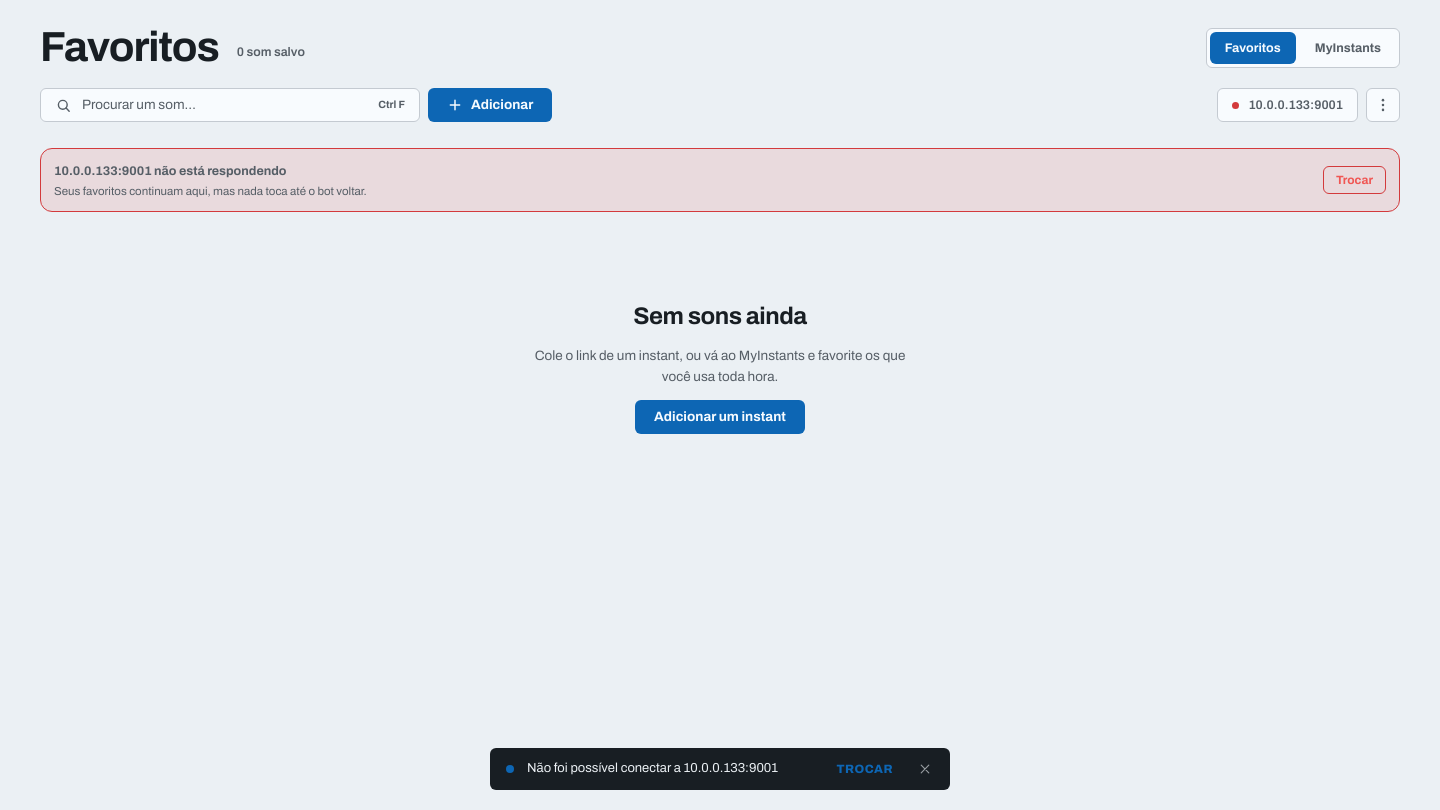
Test: connection health › opens the picker from the toast action
The image size is (1440, 810).
Click the 2nd button "Trocar" at x=865, y=769, box [830,759,899,779]
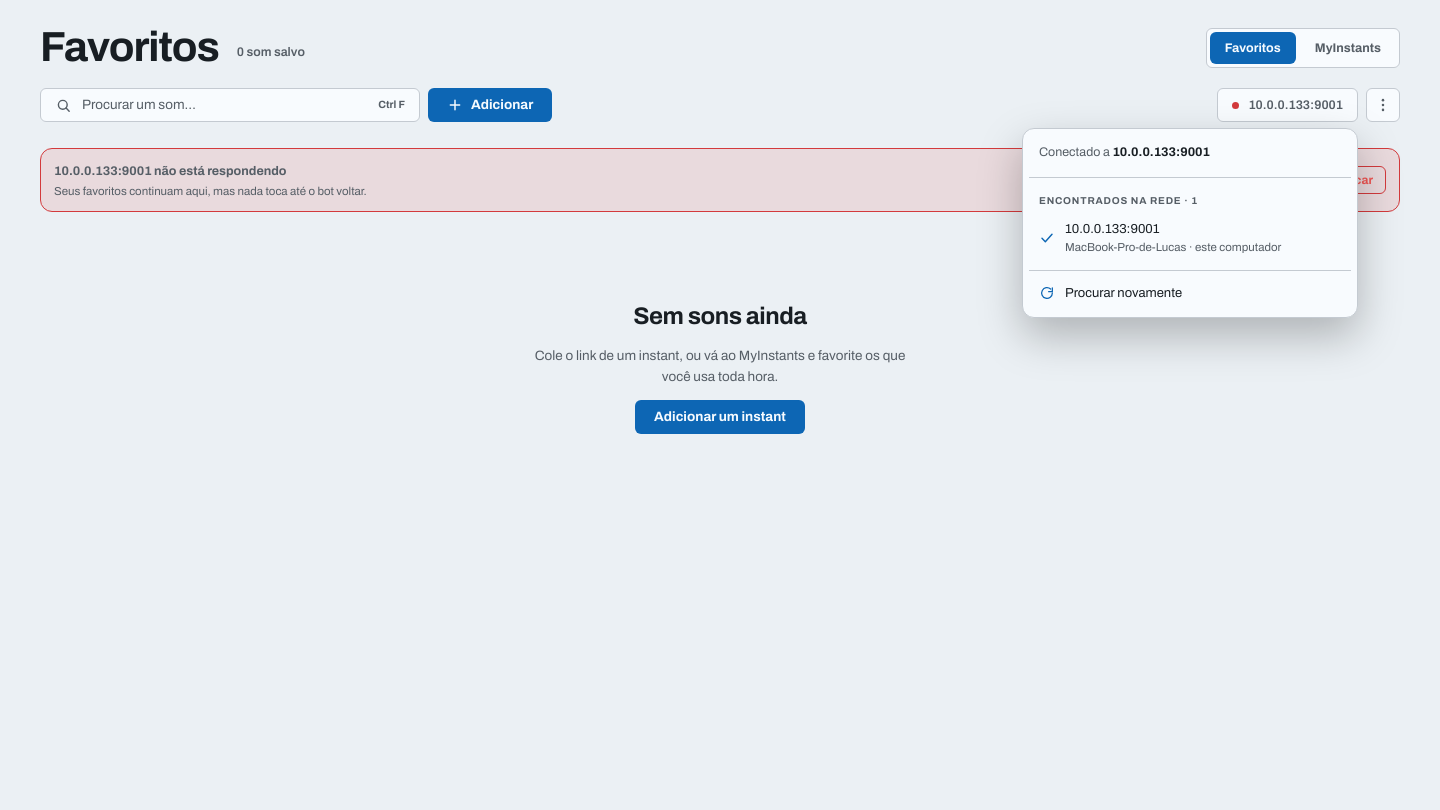
Result: the menu is shown at [1022,128,1358,318]
